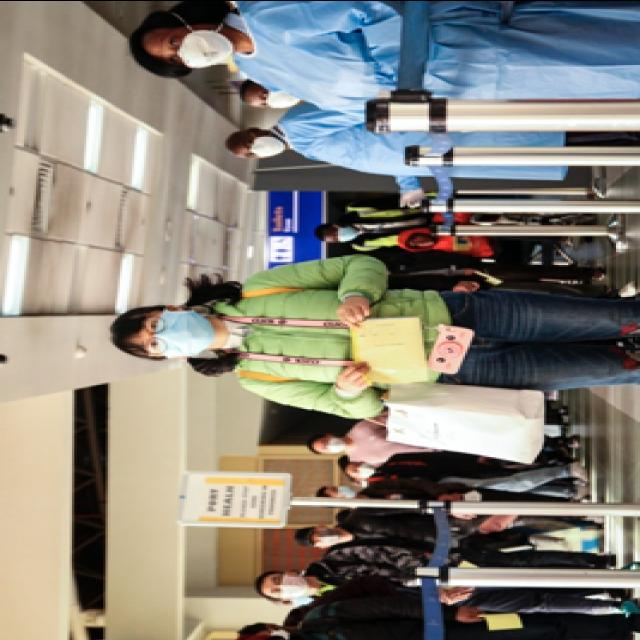with_mask: (137, 308, 216, 358), (156, 29, 235, 67), (269, 571, 309, 600), (240, 134, 288, 158), (256, 86, 302, 108), (310, 526, 340, 550), (316, 436, 350, 454), (328, 224, 358, 242), (328, 485, 358, 499), (350, 462, 376, 478)
without_mask: (410, 235, 434, 248)
